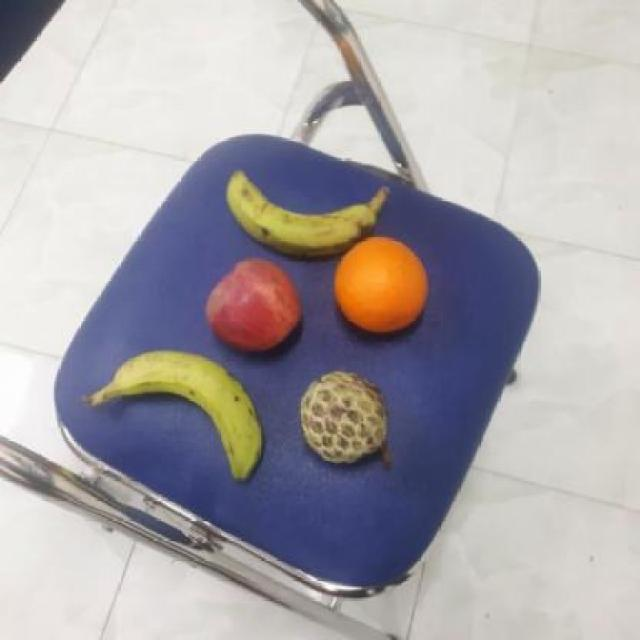apple: (204, 256, 305, 350)
banana: (107, 346, 267, 485), (221, 167, 385, 264)
oren: (332, 234, 431, 335)
sugar apple: (294, 369, 394, 471)
